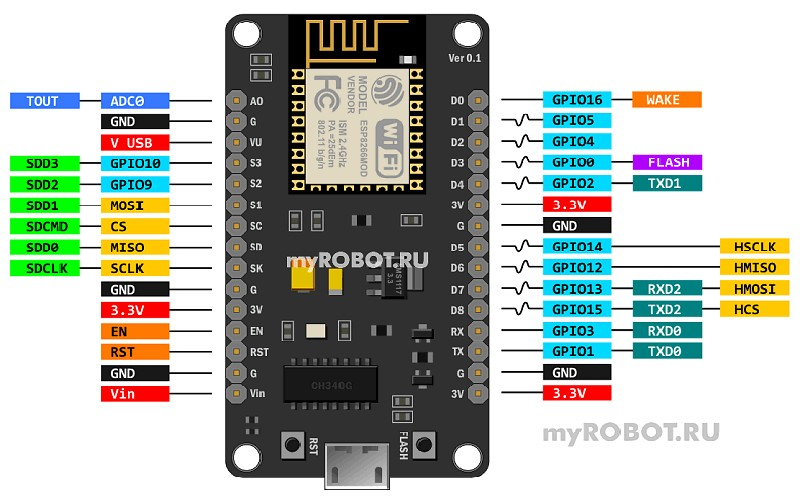IoT Sensor: (211, 9, 501, 488)
